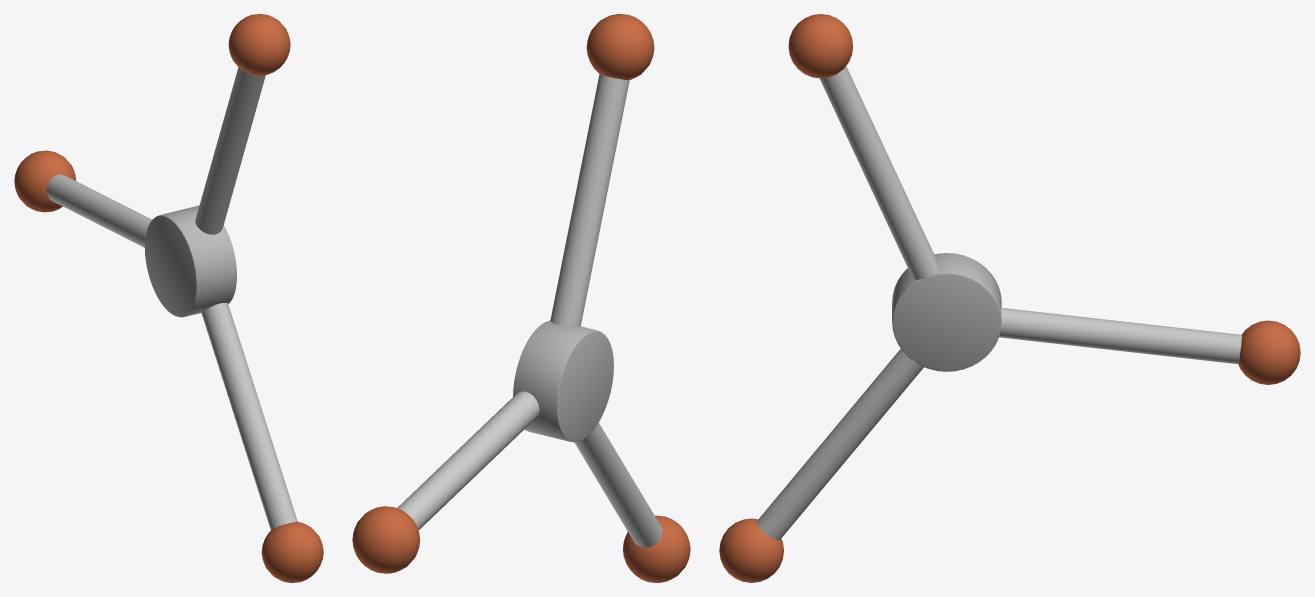
Rendered from magnetic_core_drill_feed_handle.glb.
The picture shows the model from 3 angles, left to right: view 1: azimuth 30°, elevation 25°; view 2: azimuth 150°, elevation 25°; view 3: azimuth 270°, elevation 25°; orthographic projection. The views are drawn at different scales.
Parts seen in each view (by area): view 1: magnetic_core_drill_feed_handle; view 2: magnetic_core_drill_feed_handle; view 3: magnetic_core_drill_feed_handle.
Boxes of the visible parts, x1=… form: magnetic_core_drill_feed_handle: x1=14, y1=14, x2=323, y2=582; magnetic_core_drill_feed_handle: x1=352, y1=14, x2=690, y2=582; magnetic_core_drill_feed_handle: x1=719, y1=14, x2=1300, y2=582.
Size of the model in its own units: 0.027 by 0.2494 by 0.2334.
